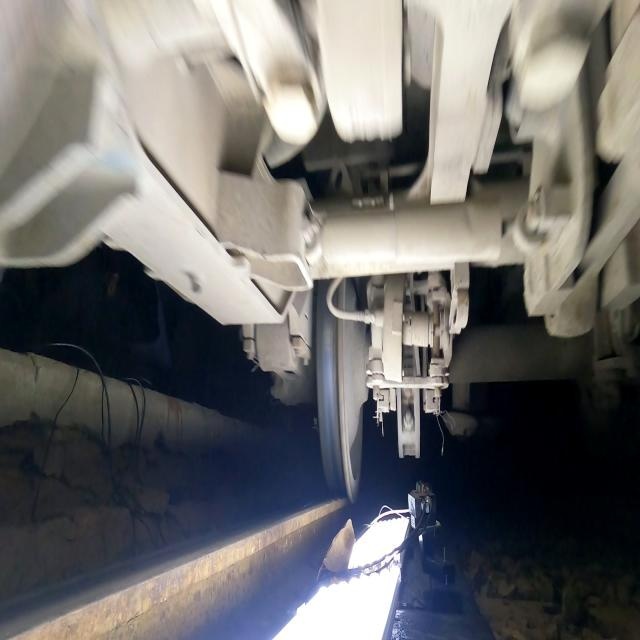Shelling: (322, 327, 333, 349)
Wheel: (316, 282, 366, 503)
